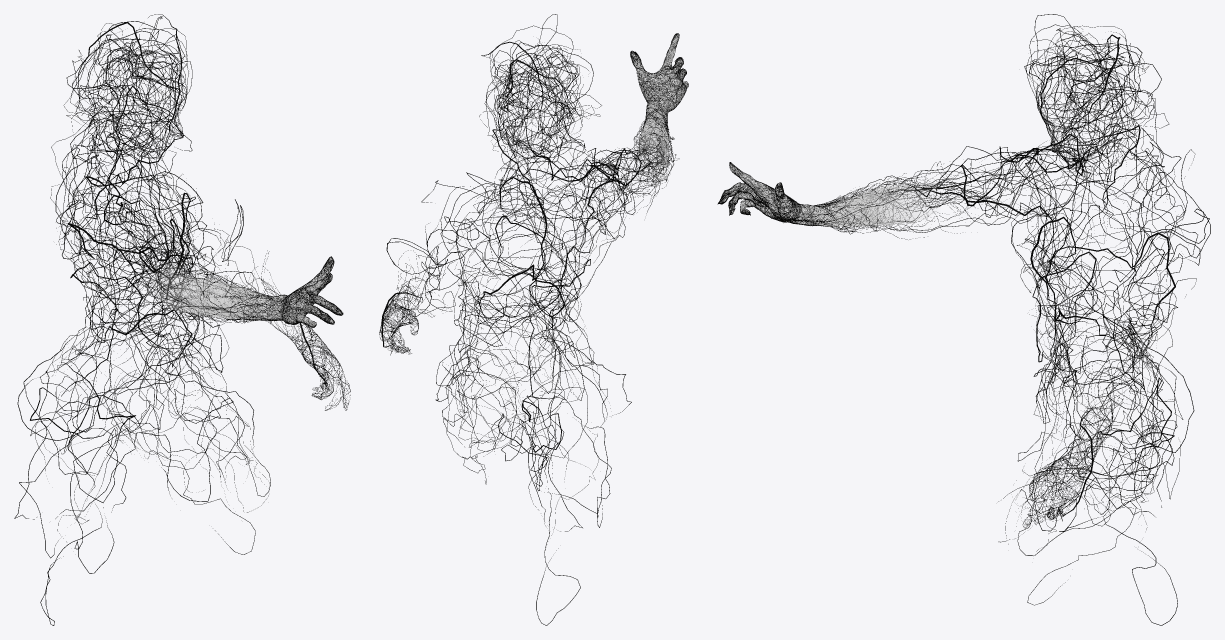
The model's file is model-1.B_txL4GN.glb.
3 renders of one model, left to right at view 1: azimuth 30°, elevation 25°; view 2: azimuth 150°, elevation 25°; view 3: azimuth 270°, elevation 25°, orthographic. The views are drawn at different scales.
Parts seen in each view (by area): view 1: veins, rndr_pose_01_v2; view 2: veins, rndr_pose_01_v2; view 3: veins, rndr_pose_01_v2.
Part boxes in pixels (left/top/right/bottom): veins: left=14, top=14, right=350, bottom=625; rndr_pose_01_v2: left=155, top=257, right=340, bottom=327; veins: left=379, top=14, right=688, bottom=625; rndr_pose_01_v2: left=631, top=34, right=687, bottom=183; veins: left=717, top=14, right=1210, bottom=625; rndr_pose_01_v2: left=720, top=163, right=934, bottom=226.
Size of the model in its own units: 0.6206 by 1.29 by 0.9097.
Materials: 2 (1 with a texture image).
